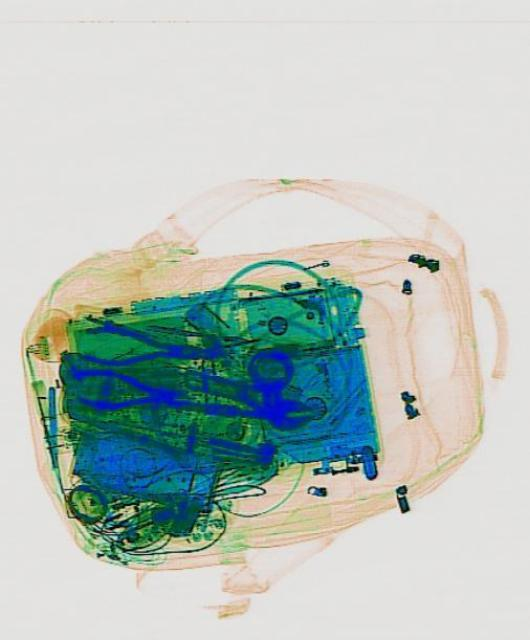Pliers: (79, 321, 216, 372), (62, 365, 189, 419)
Wrench: (213, 380, 313, 434)
